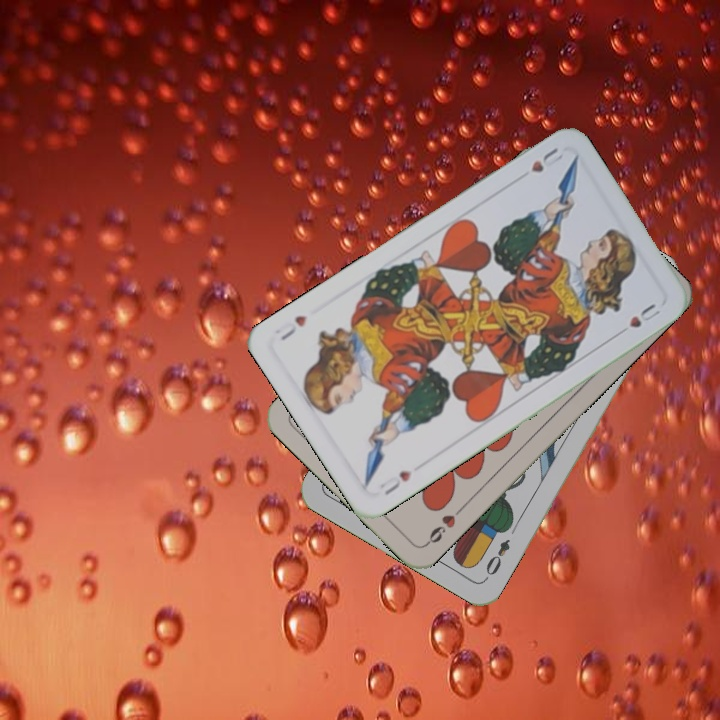EO: (481, 535, 513, 583)
H9: (421, 501, 467, 549)
HU: (375, 466, 415, 498), (526, 143, 566, 175)
